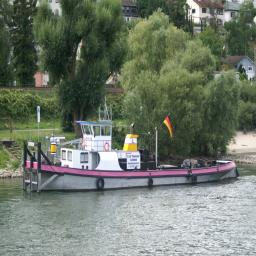tugboat: (21, 96, 243, 203)
